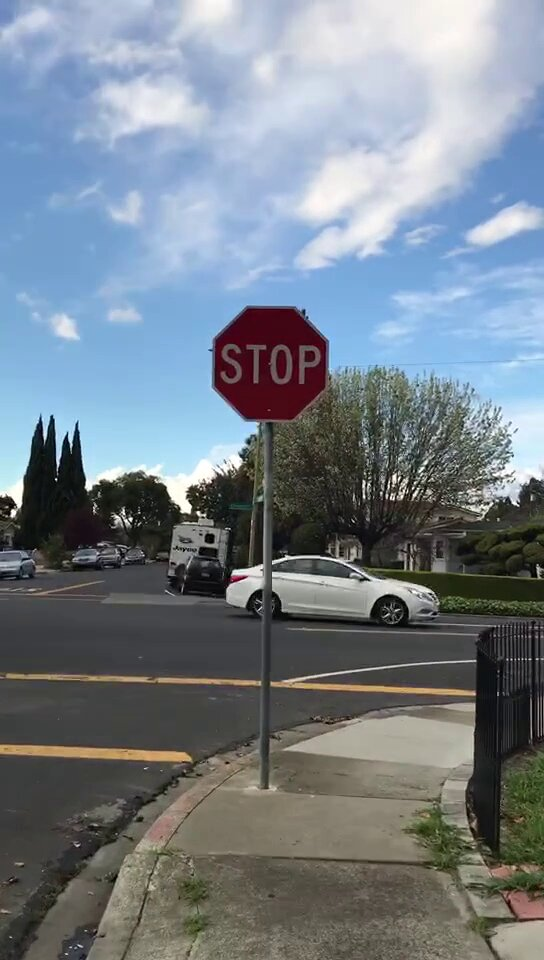stop_sign: (212, 307, 330, 420)
